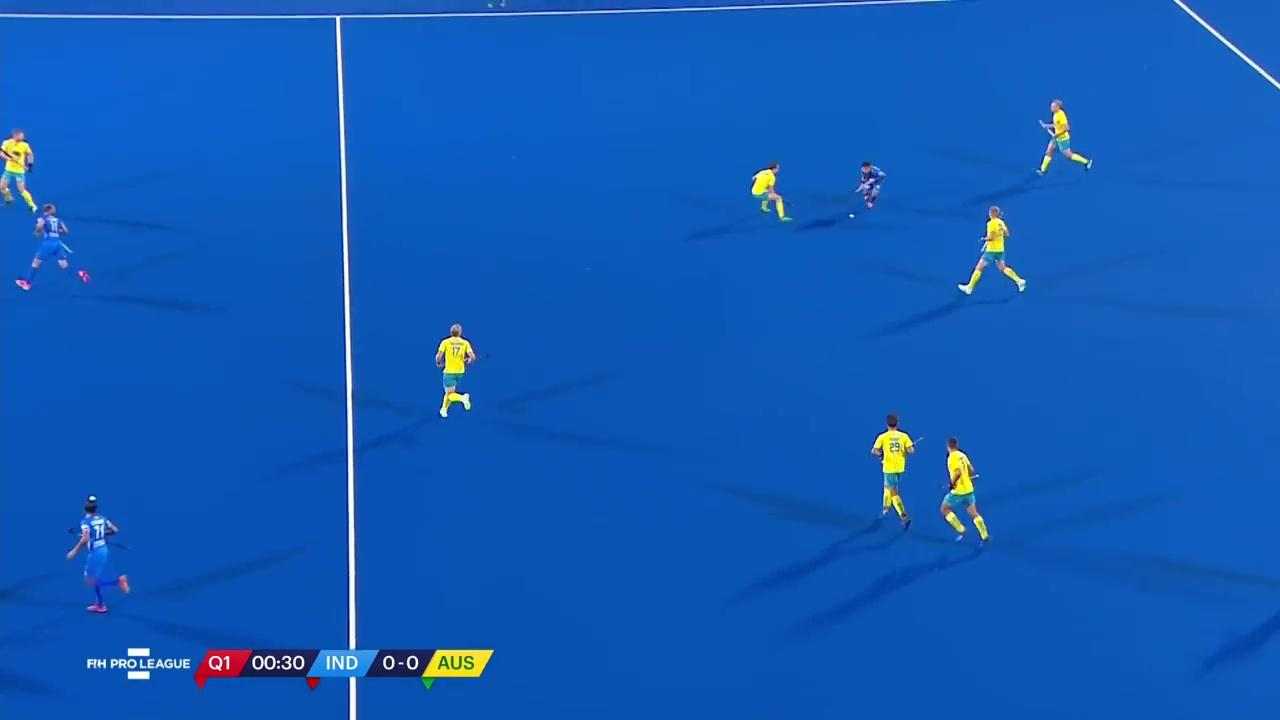ball: (845, 208, 858, 222)
